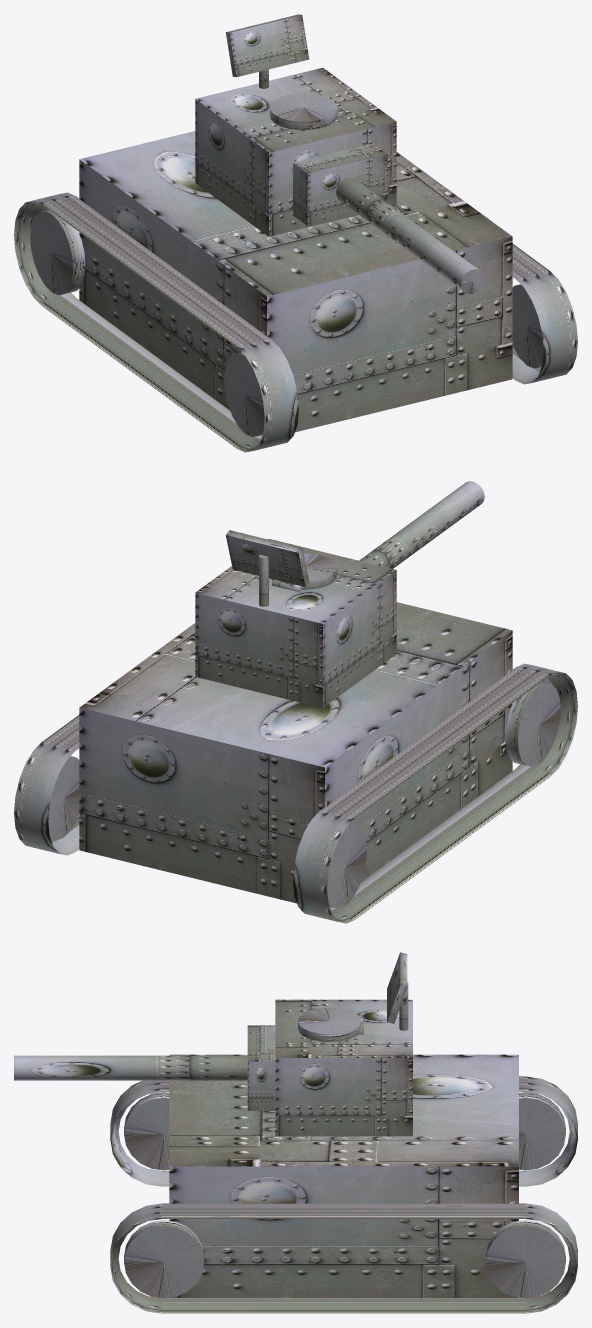
Rendered from EasyTank_Separate.fbx.
3 renders of one model, top to bottom at view 1: azimuth 30°, elevation 25°; view 2: azimuth 150°, elevation 25°; view 3: azimuth 270°, elevation 25°, orthographic. The views are drawn at different scales.
Visible parts, largest first — view 1: obj1, obj2, obj3, obj4; view 2: obj1, obj2, obj4, obj3; view 3: obj1, obj2, obj4, obj3.
Boxes of the visible parts, left/top/right/bottom form: obj1: left=14, top=131, right=577, bottom=452; obj2: left=195, top=14, right=396, bottom=236; obj3: left=293, top=143, right=484, bottom=294; obj4: left=30, top=210, right=543, bottom=436; obj1: left=14, top=602, right=577, bottom=923; obj2: left=195, top=530, right=396, bottom=707; obj4: left=48, top=682, right=560, bottom=908; obj3: left=359, top=481, right=484, bottom=568; obj1: left=110, top=1054, right=577, bottom=1313; obj2: left=275, top=952, right=412, bottom=1136; obj4: left=124, top=1092, right=565, bottom=1298; obj3: left=14, top=1025, right=275, bottom=1110.
Bounding box in the file's own units: 1157 × 1041 × 1934.
Materials: 1 (1 with a texture image).
